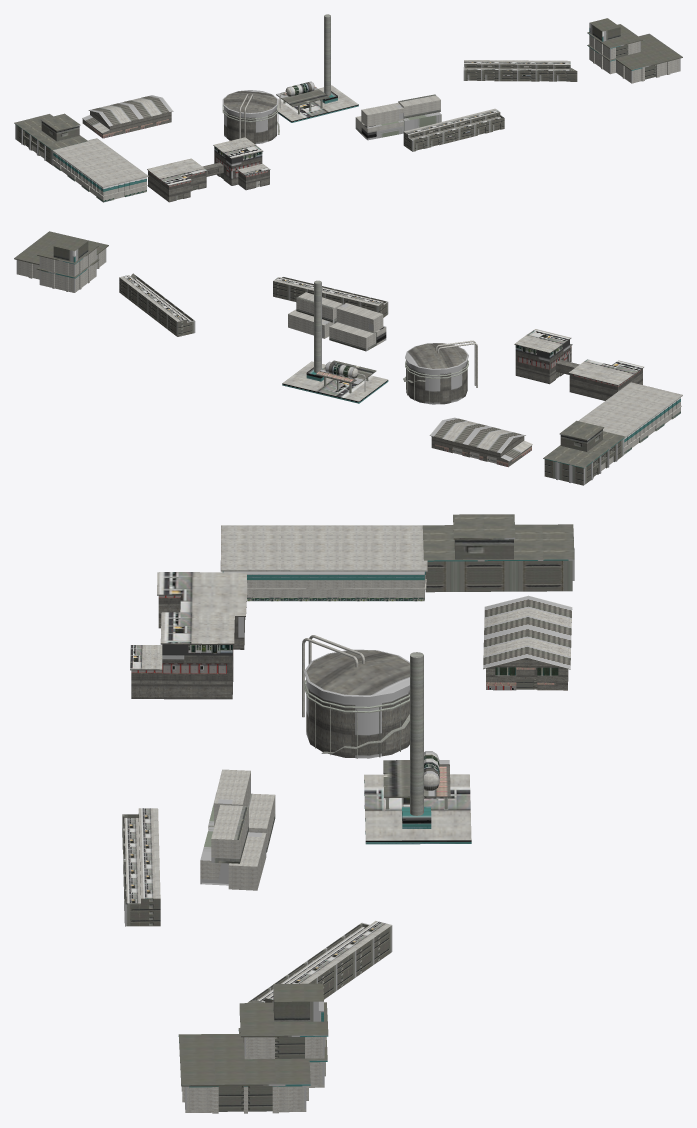
File: industrial area.fbx
The picture shows the model from 3 angles, top to bottom: view 1: azimuth 30°, elevation 25°; view 2: azimuth 150°, elevation 25°; view 3: azimuth 270°, elevation 25°; orthographic projection. The views are drawn at different scales.
Parts seen in each view (by area): view 1: Factory_H006.001, Industrial_G006.001, Industrial_H006.001, Industrial_Y015.001, Industrial_N004.001, Factory_C005.001, Factory_D004.001, Factory_D002.001, Industrial_F008.001, Industrial_White032.001, Industrial_Red023.001, Industrial_Green014.001 (+1 smaller); view 2: Factory_H006.001, Industrial_G006.001, Industrial_Y015.001, Industrial_H006.001, Industrial_F008.001, Industrial_N004.001, Factory_C005.001, Factory_D004.001, Factory_D002.001, Industrial_White032.001, Industrial_Red025.001, Industrial_Red023.001 (+1 smaller); view 3: Industrial_H006.001, Industrial_G006.001, Factory_H006.001, Industrial_Y015.001, Industrial_F008.001, Industrial_N004.001, Factory_C005.001, Factory_D004.001, Factory_D002.001, Industrial_Red023.001, Industrial_White029.001, Industrial_White032.001 (+2 smaller).
Part boxes in pixels (x1,y1,x2,y2): Factory_H006.001: (147,137,270,202); Industrial_G006.001: (587,18,682,83); Industrial_H006.001: (51,138,148,202); Industrial_Y015.001: (222,90,279,144); Industrial_N004.001: (276,14,358,122); Factory_C005.001: (82,95,173,138); Factory_D004.001: (463,60,577,81); Factory_D002.001: (403,108,504,151); Industrial_F008.001: (14,113,87,165); Industrial_White032.001: (361,103,403,126); Industrial_Red023.001: (398,94,440,118); Industrial_Green014.001: (361,120,404,140); Factory_H006.001: (514,329,643,400); Industrial_G006.001: (14,231,108,292); Industrial_Y015.001: (403,340,477,404); Industrial_H006.001: (578,382,682,454); Industrial_F008.001: (543,420,625,485); Industrial_N004.001: (282,280,388,403); Factory_C005.001: (429,417,532,467); Factory_D004.001: (119,273,195,336); Factory_D002.001: (273,277,388,317); Industrial_White032.001: (336,303,383,332); Industrial_Red025.001: (329,322,375,351); Industrial_Red023.001: (296,292,342,322); Industrial_H006.001: (220,525,427,601); Industrial_G006.001: (178,983,328,1113); Factory_H006.001: (130,572,247,699); Industrial_Y015.001: (302,635,409,758); Industrial_F008.001: (422,514,574,592); Industrial_N004.001: (364,652,471,844); Factory_C005.001: (483,595,572,690); Factory_D004.001: (247,921,392,1002); Factory_D002.001: (122,808,160,926); Industrial_Red023.001: (211,805,248,863); Industrial_White029.001: (228,832,266,890); Industrial_White032.001: (214,769,250,826).
Bounding box in the file's own units: 12500 × 1849 × 4286.
